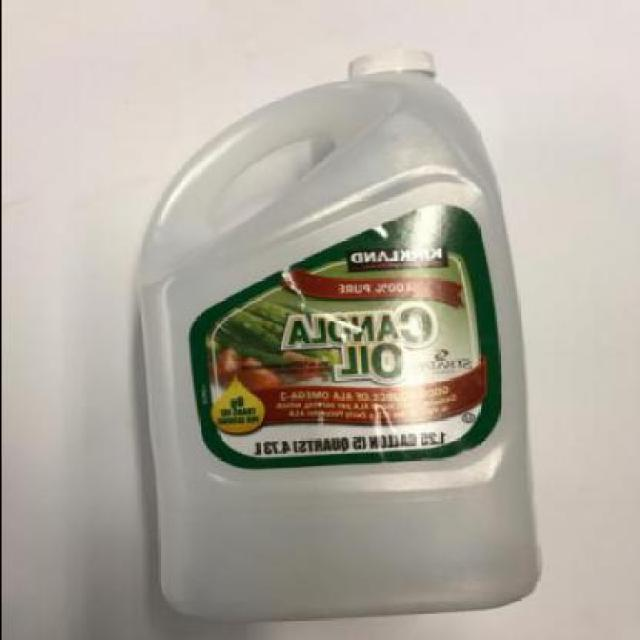PLASTIC: (134, 48, 538, 622), (346, 47, 432, 78)
